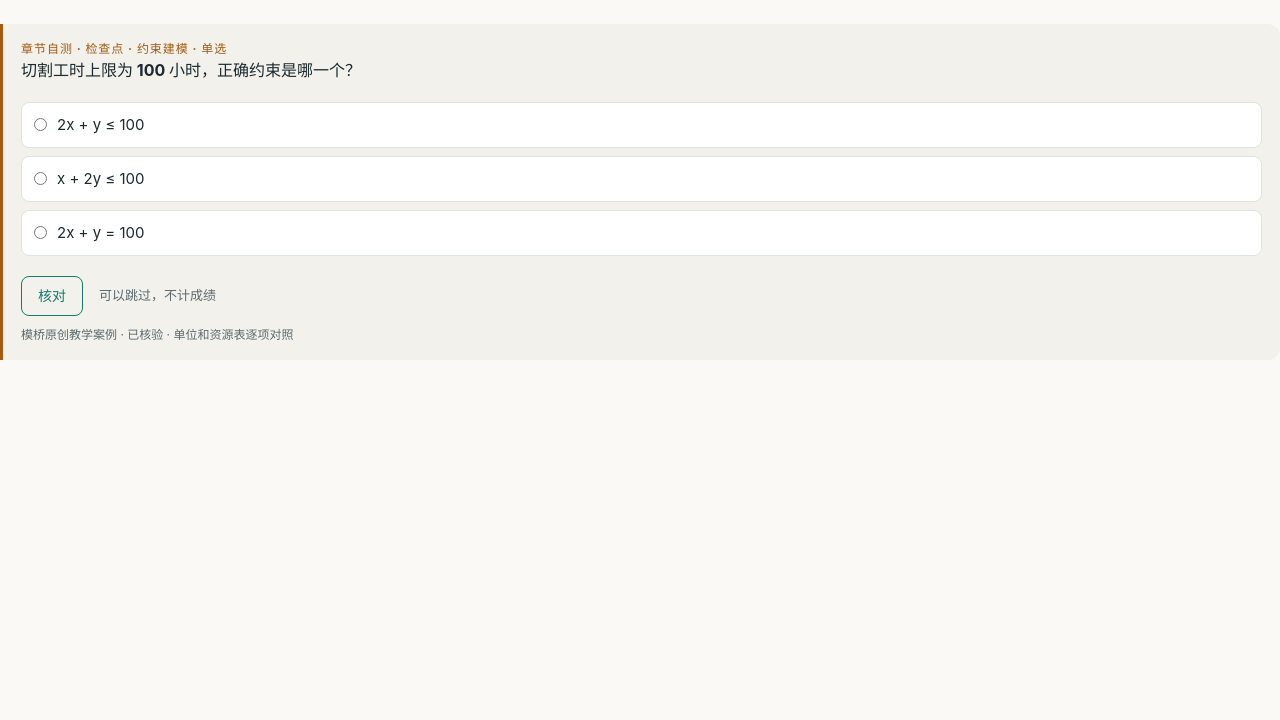
checks instantly, explains a known mistake, and offers hint and solution on request
The width and height of the screenshot is (1280, 720).
Expected: the text "可以跳过，不计成绩" is shown, [99,285,216,306]
Step 1. Click the radio button labelled "2x + y = 100" → point(40, 232), box [34,226,47,239]
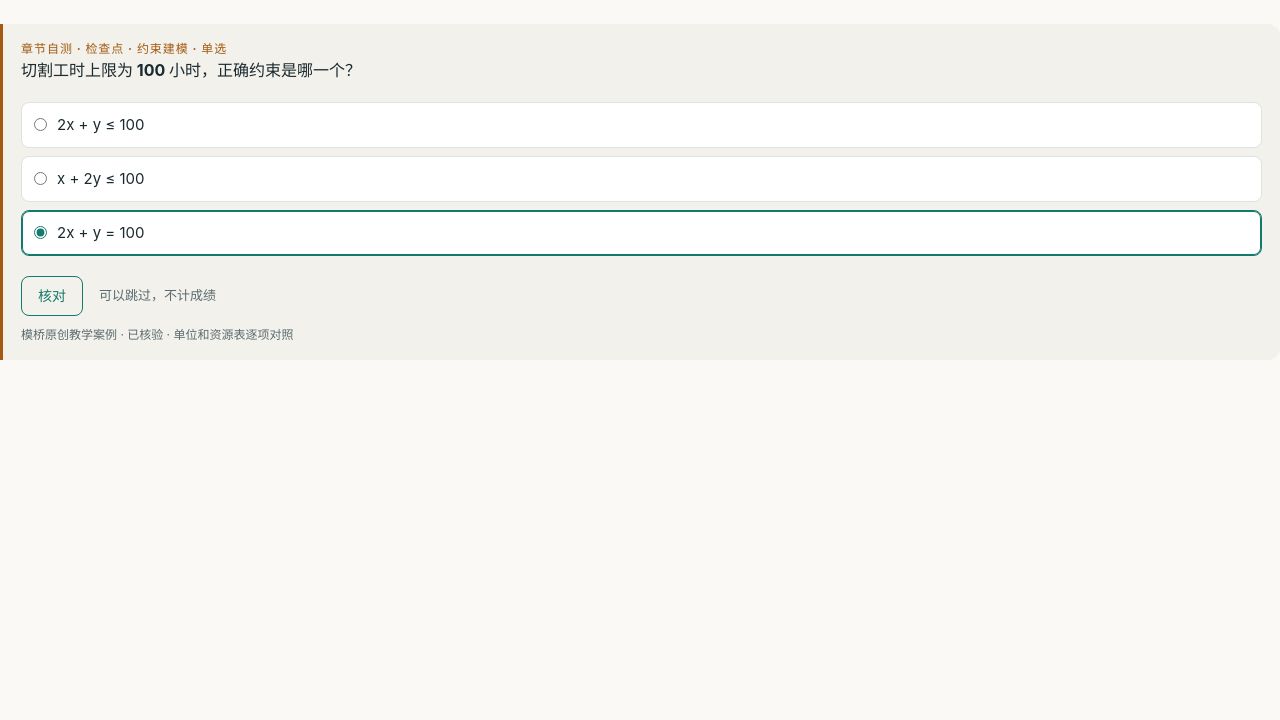
Step 2. Click the button "核对" → point(52, 296), box [21,276,83,316]
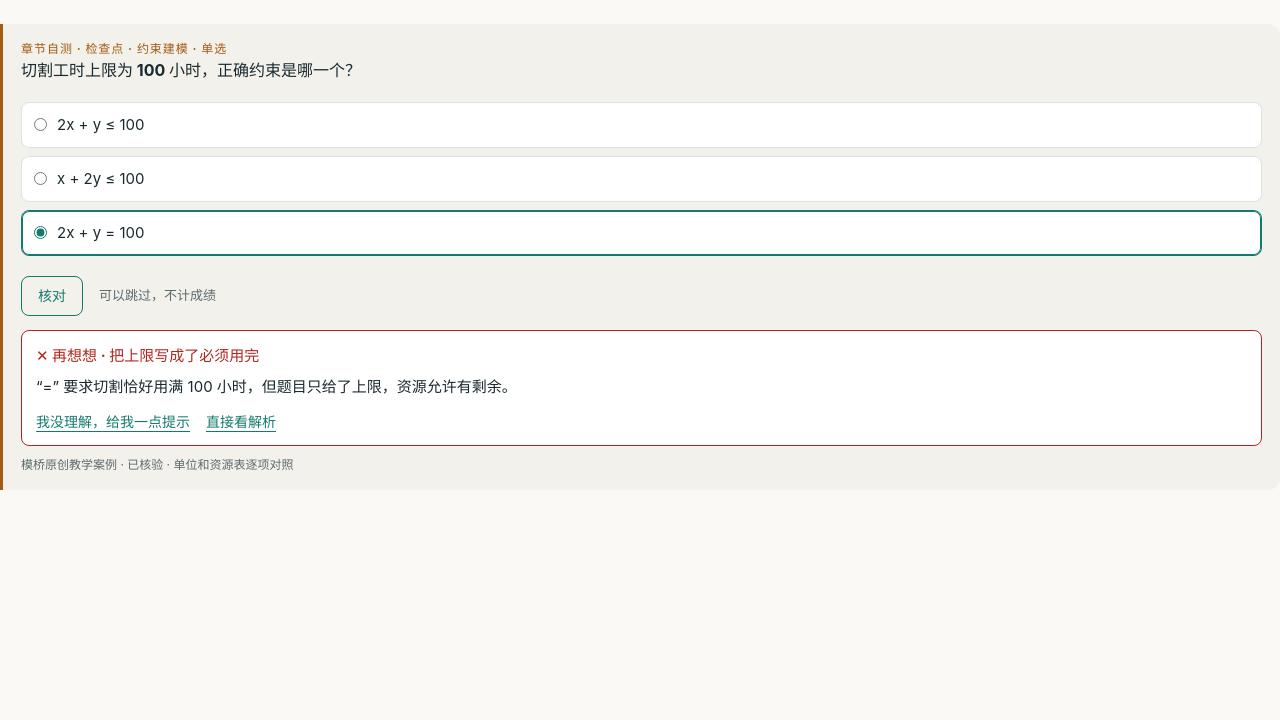
Expected: the message does not show "2x + y ≤ 100", [21,330,1262,446]
Now the message shows "把上限写成了必须用完", box [97,346,259,365]
Step 3. Click the button "我没理解，给我一点提示" → point(113, 422), box [36,410,190,433]
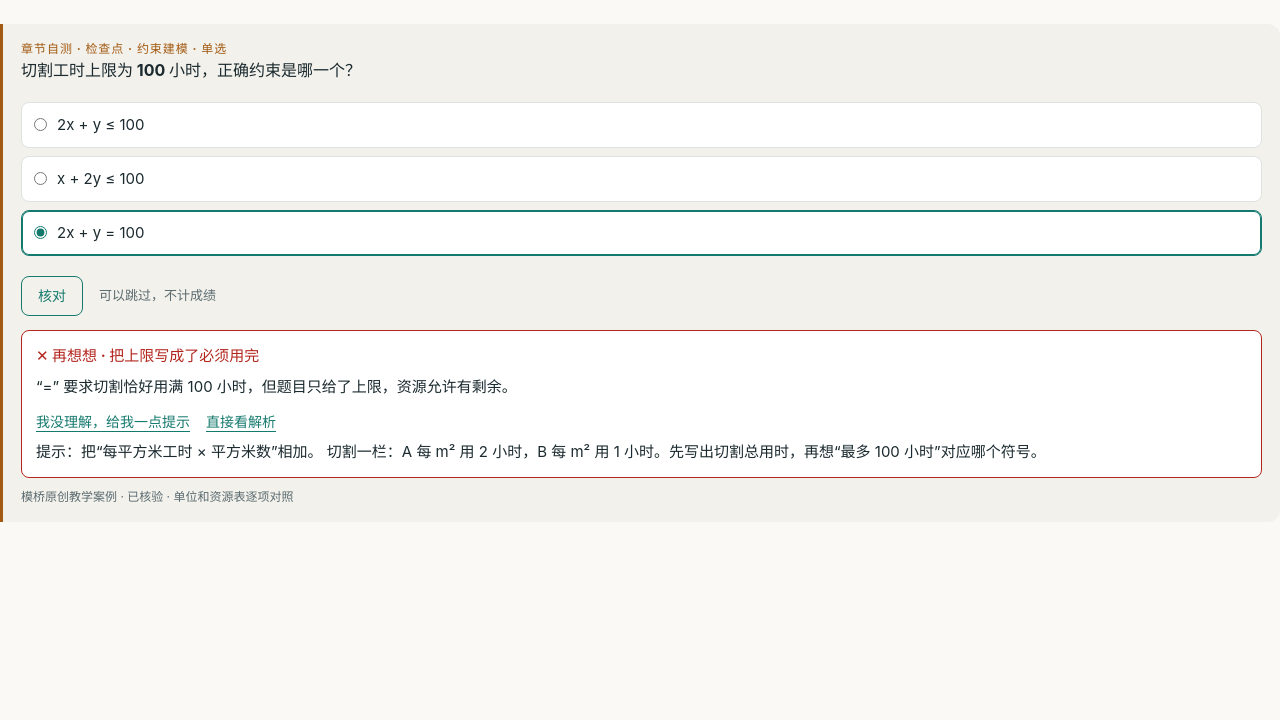
Now the message shows "把“每平方米工时 × 平方米数”相加", box [81,442,323,461]
Step 4. Click the button "直接看解析" → point(241, 422), box [206,410,276,433]
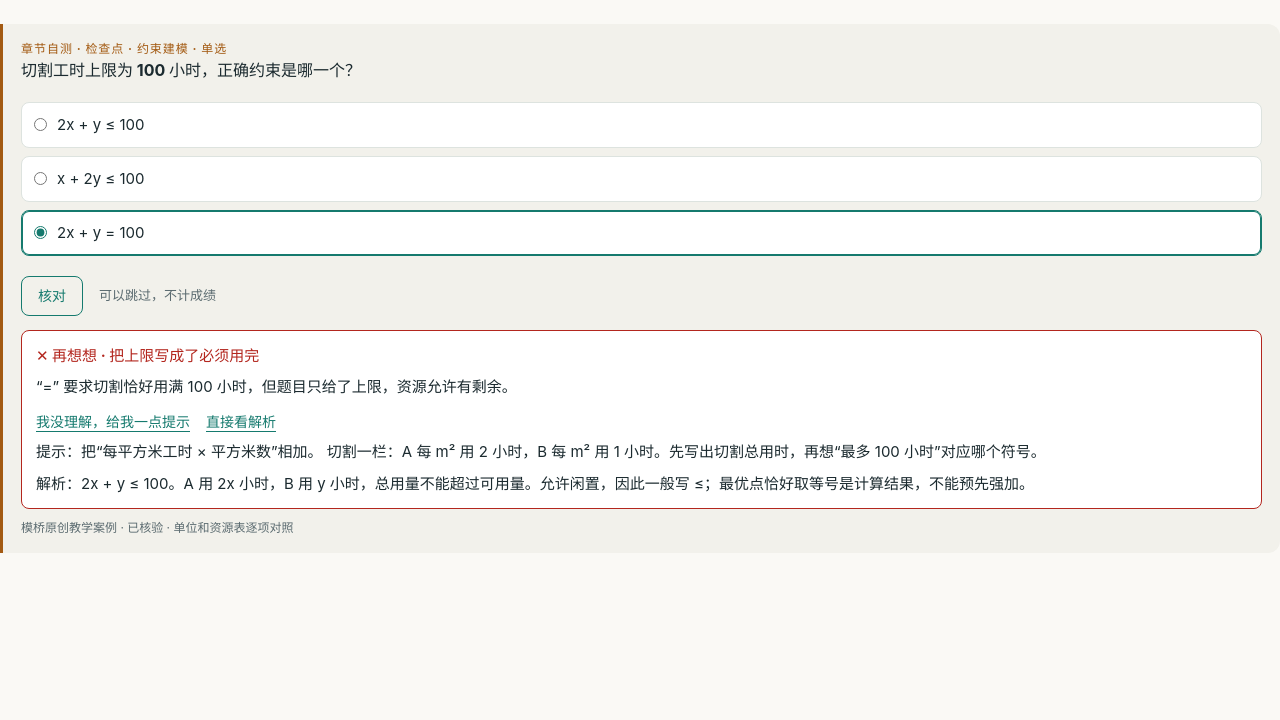
Now the message shows "解析：2x + y ≤ 100", box [21,330,1262,509]
